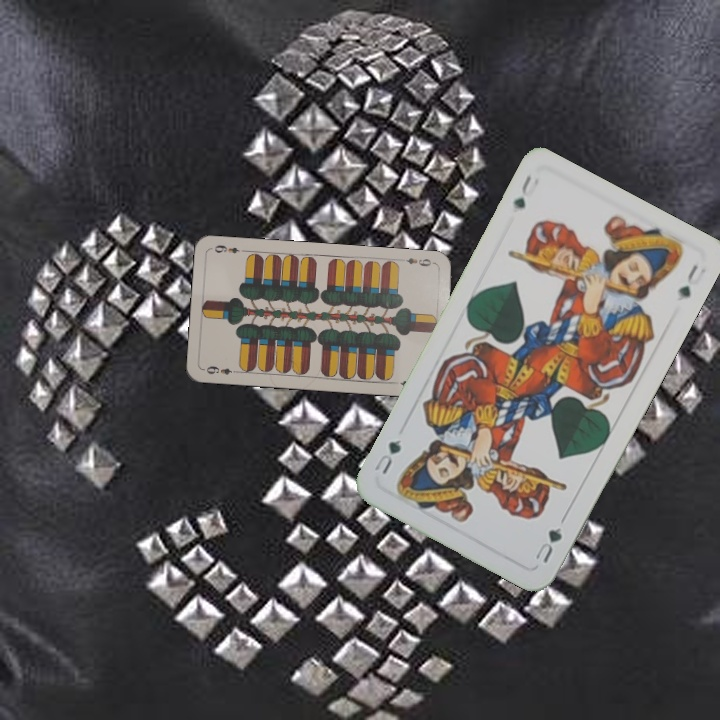E9: (397, 254, 438, 269), (202, 362, 241, 377)
GU: (531, 523, 565, 566), (509, 171, 534, 212)
